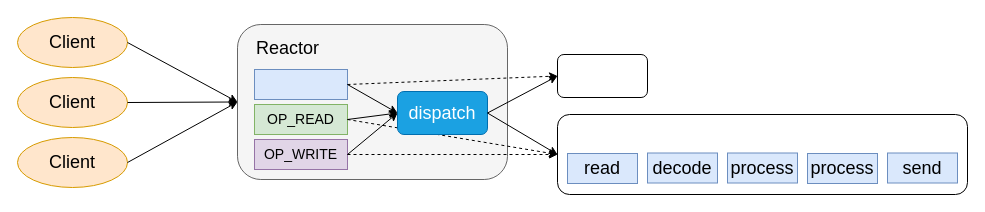
Some shapes in this 985 by 212 pixel diagram are drawn without their labels. Here are the shapes that lost their labels. From the top down, the box of each, then its label:
(254, 68, 348, 100): OP_ACCEPT
(556, 54, 648, 98): Acceptor
(556, 114, 968, 194): Handler
